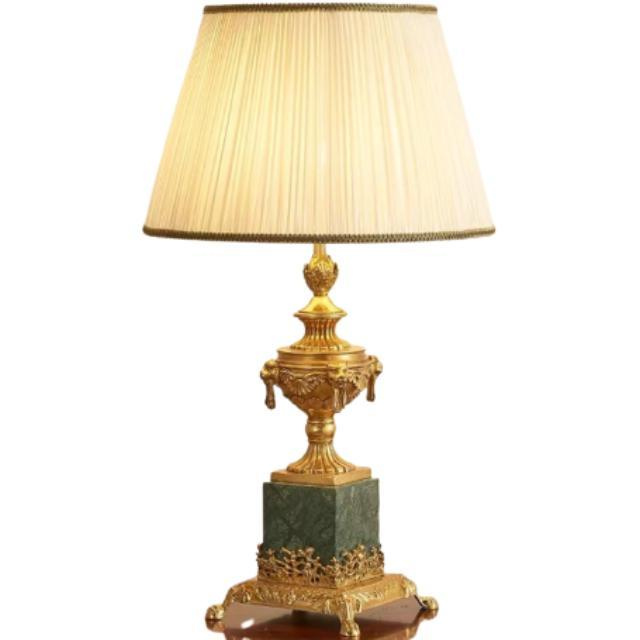lamp: (141, 6, 495, 640)
